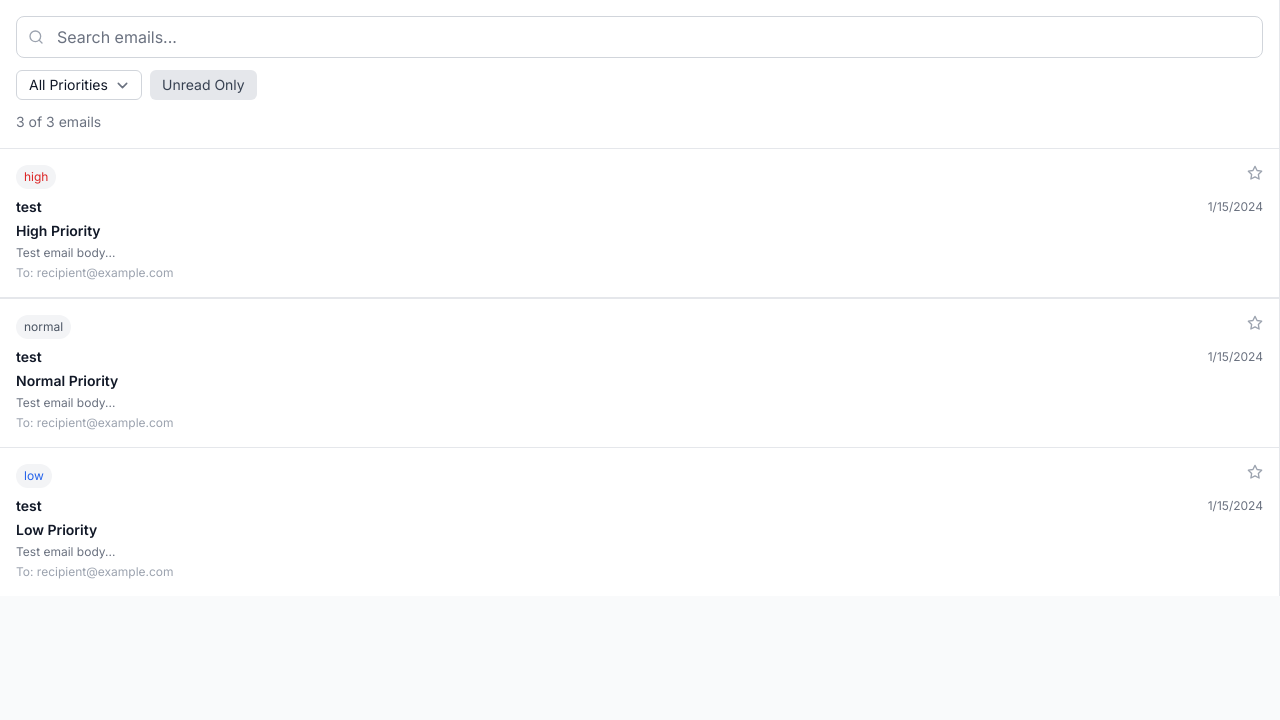
Test: EmailList › filters by priority when priority filter is applied
# Click on high priority filter
Select "High Priority" in the dropdown at coordinates (79, 85), box [16, 70, 142, 100]
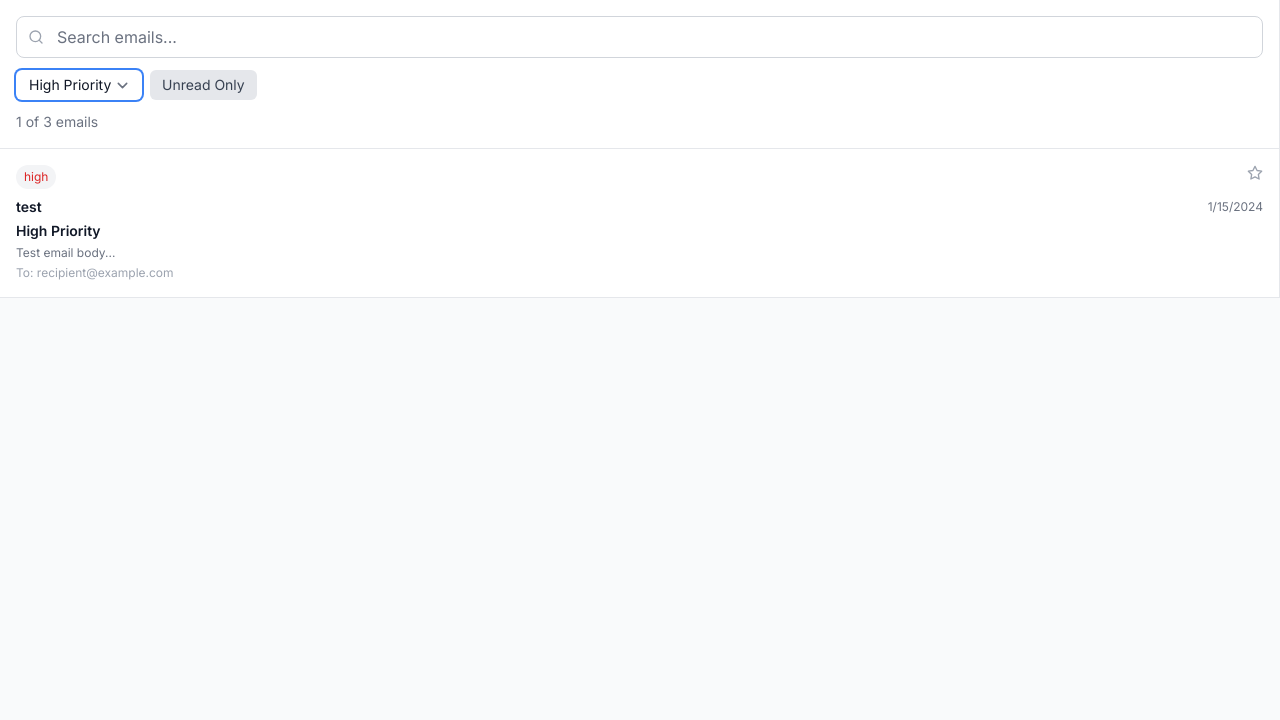
Expected: the heading "Normal Priority" is gone
Expected: the heading "Low Priority" is gone
